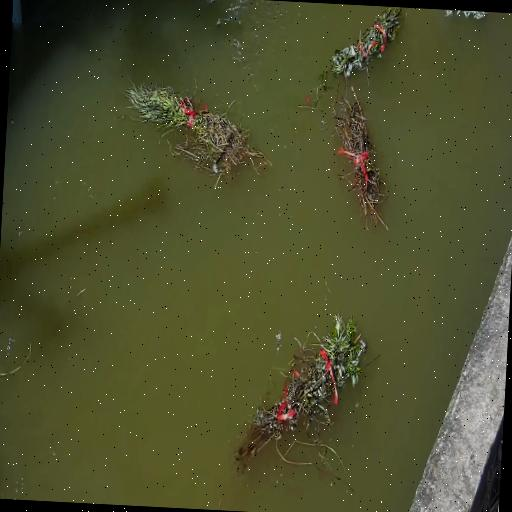twig: (230, 305, 368, 488), (118, 78, 270, 189), (330, 88, 394, 232), (327, 5, 402, 85), (302, 77, 330, 112)
